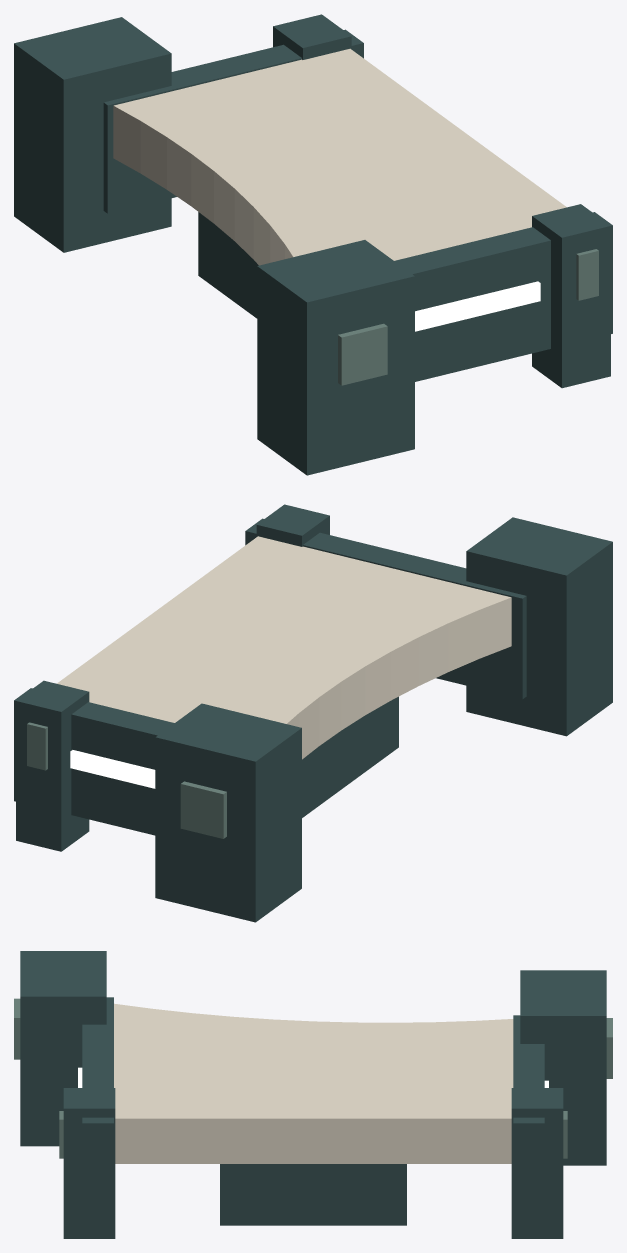
The model's file is Pier_Angled_05_lab.glb.
The picture shows the model from 3 angles, top to bottom: view 1: azimuth 30°, elevation 25°; view 2: azimuth 150°, elevation 25°; view 3: azimuth 270°, elevation 25°; orthographic projection. The views are drawn at different scales.
Parts seen in each view (by area): view 1: Pier_Angled_05; view 2: Pier_Angled_05; view 3: Pier_Angled_05.
Part boxes in pixels (x1,y1,x2,y2): Pier_Angled_05: (14,14,612,475); Pier_Angled_05: (14,504,612,922); Pier_Angled_05: (14,951,612,1238).
Bounding box in the file's own units: 2.38 × 1.15 × 4.17.
